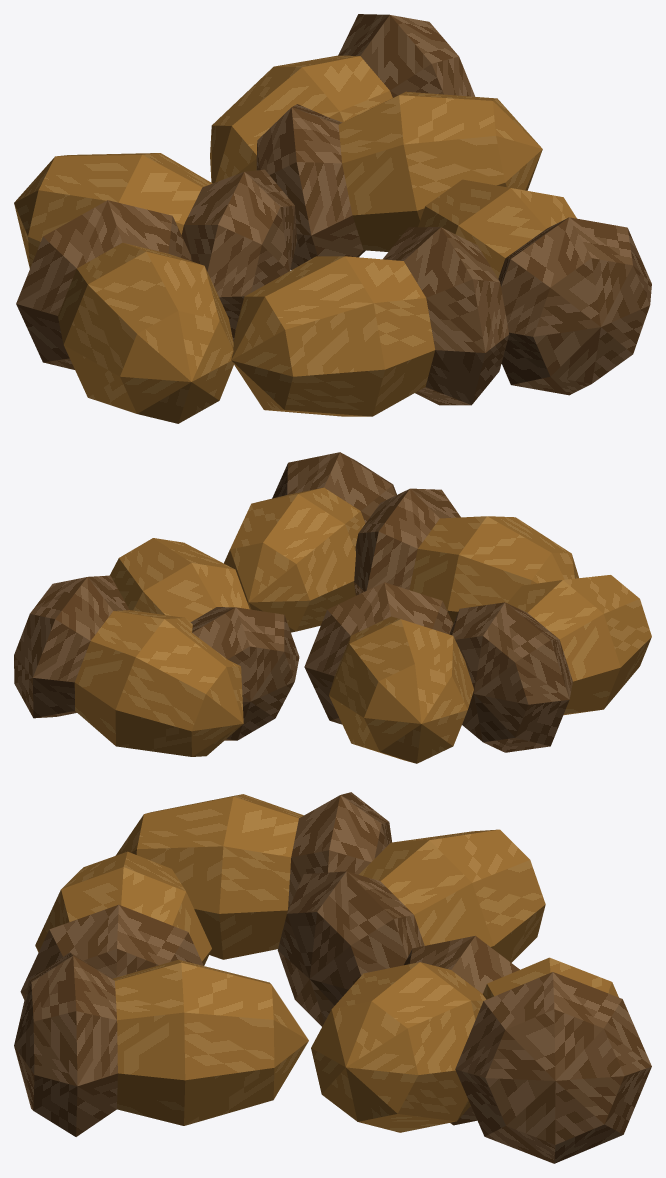
The model's file is acorns.glb.
The picture shows the model from 3 angles, top to bottom: view 1: azimuth 30°, elevation 25°; view 2: azimuth 150°, elevation 25°; view 3: azimuth 270°, elevation 25°; orthographic projection. The views are drawn at different scales.
Visible parts, largest first — view 1: block_nut3, block_nut2, block_cap5, block_nut0, block_cap3, block_cap4, block_nut4, block_cap0, block_nut1, block_cap2, block_nut5, block_cap1; view 2: block_nut1, block_nut4, block_nut5, block_cap2, block_nut2, block_nut3, block_cap1, block_nut0, block_cap0, block_cap3, block_cap4, block_cap5; view 3: block_cap1, block_nut5, block_nut0, block_nut2, block_nut4, block_cap5, block_cap4, block_nut3, block_cap3, block_cap2, block_cap0, block_nut1.
Boxes of the visible parts, <box> form: block_nut3: <box>231,256,435,416</box>; block_nut2: <box>58,242,233,423</box>; block_cap5: <box>498,217,651,395</box>; block_nut0: <box>338,91,542,251</box>; block_cap3: <box>383,227,509,405</box>; block_cap4: <box>181,169,296,341</box>; block_nut4: <box>14,153,212,268</box>; block_cap0: <box>256,104,365,269</box>; block_nut1: <box>210,55,392,183</box>; block_cap2: <box>16,200,191,369</box>; block_nut5: <box>418,179,576,278</box>; block_cap1: <box>338,14,474,97</box>; block_nut1: <box>74,610,243,756</box>; block_nut4: <box>329,616,473,763</box>; block_nut5: <box>224,487,365,632</box>; block_cap2: <box>449,602,572,752</box>; block_nut2: <box>507,575,651,715</box>; block_nut3: <box>409,516,578,623</box>; block_cap1: <box>14,575,129,718</box>; block_nut0: <box>109,538,249,621</box>; block_cap0: <box>190,607,299,740</box>; block_cap3: <box>354,488,460,595</box>; block_cap4: <box>304,582,453,724</box>; block_cap5: <box>272,452,396,523</box>; block_cap1: <box>455,972,651,1163</box>; block_nut5: <box>113,959,308,1125</box>; block_nut0: <box>311,962,486,1132</box>; block_nut2: <box>115,794,303,959</box>; block_nut4: <box>359,829,545,962</box>; block_cap5: <box>14,952,117,1136</box>; block_cap4: <box>277,871,424,1026</box>; block_nut3: <box>35,851,211,965</box>; block_cap3: <box>20,904,203,999</box>; block_cap2: <box>288,792,391,910</box>; block_cap0: <box>404,935,519,1125</box>; block_nut1: <box>483,957,618,999</box>.
Bounding box in the file's own units: 0.0643 × 0.023 × 0.0648.
Materials: 1 (1 with a texture image).
